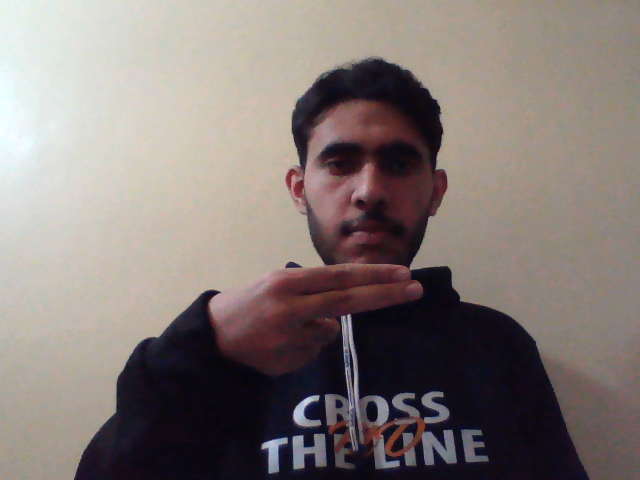H: (185, 259, 429, 385)
